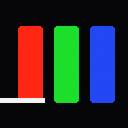3 line_h: (0, 98, 44, 102)
